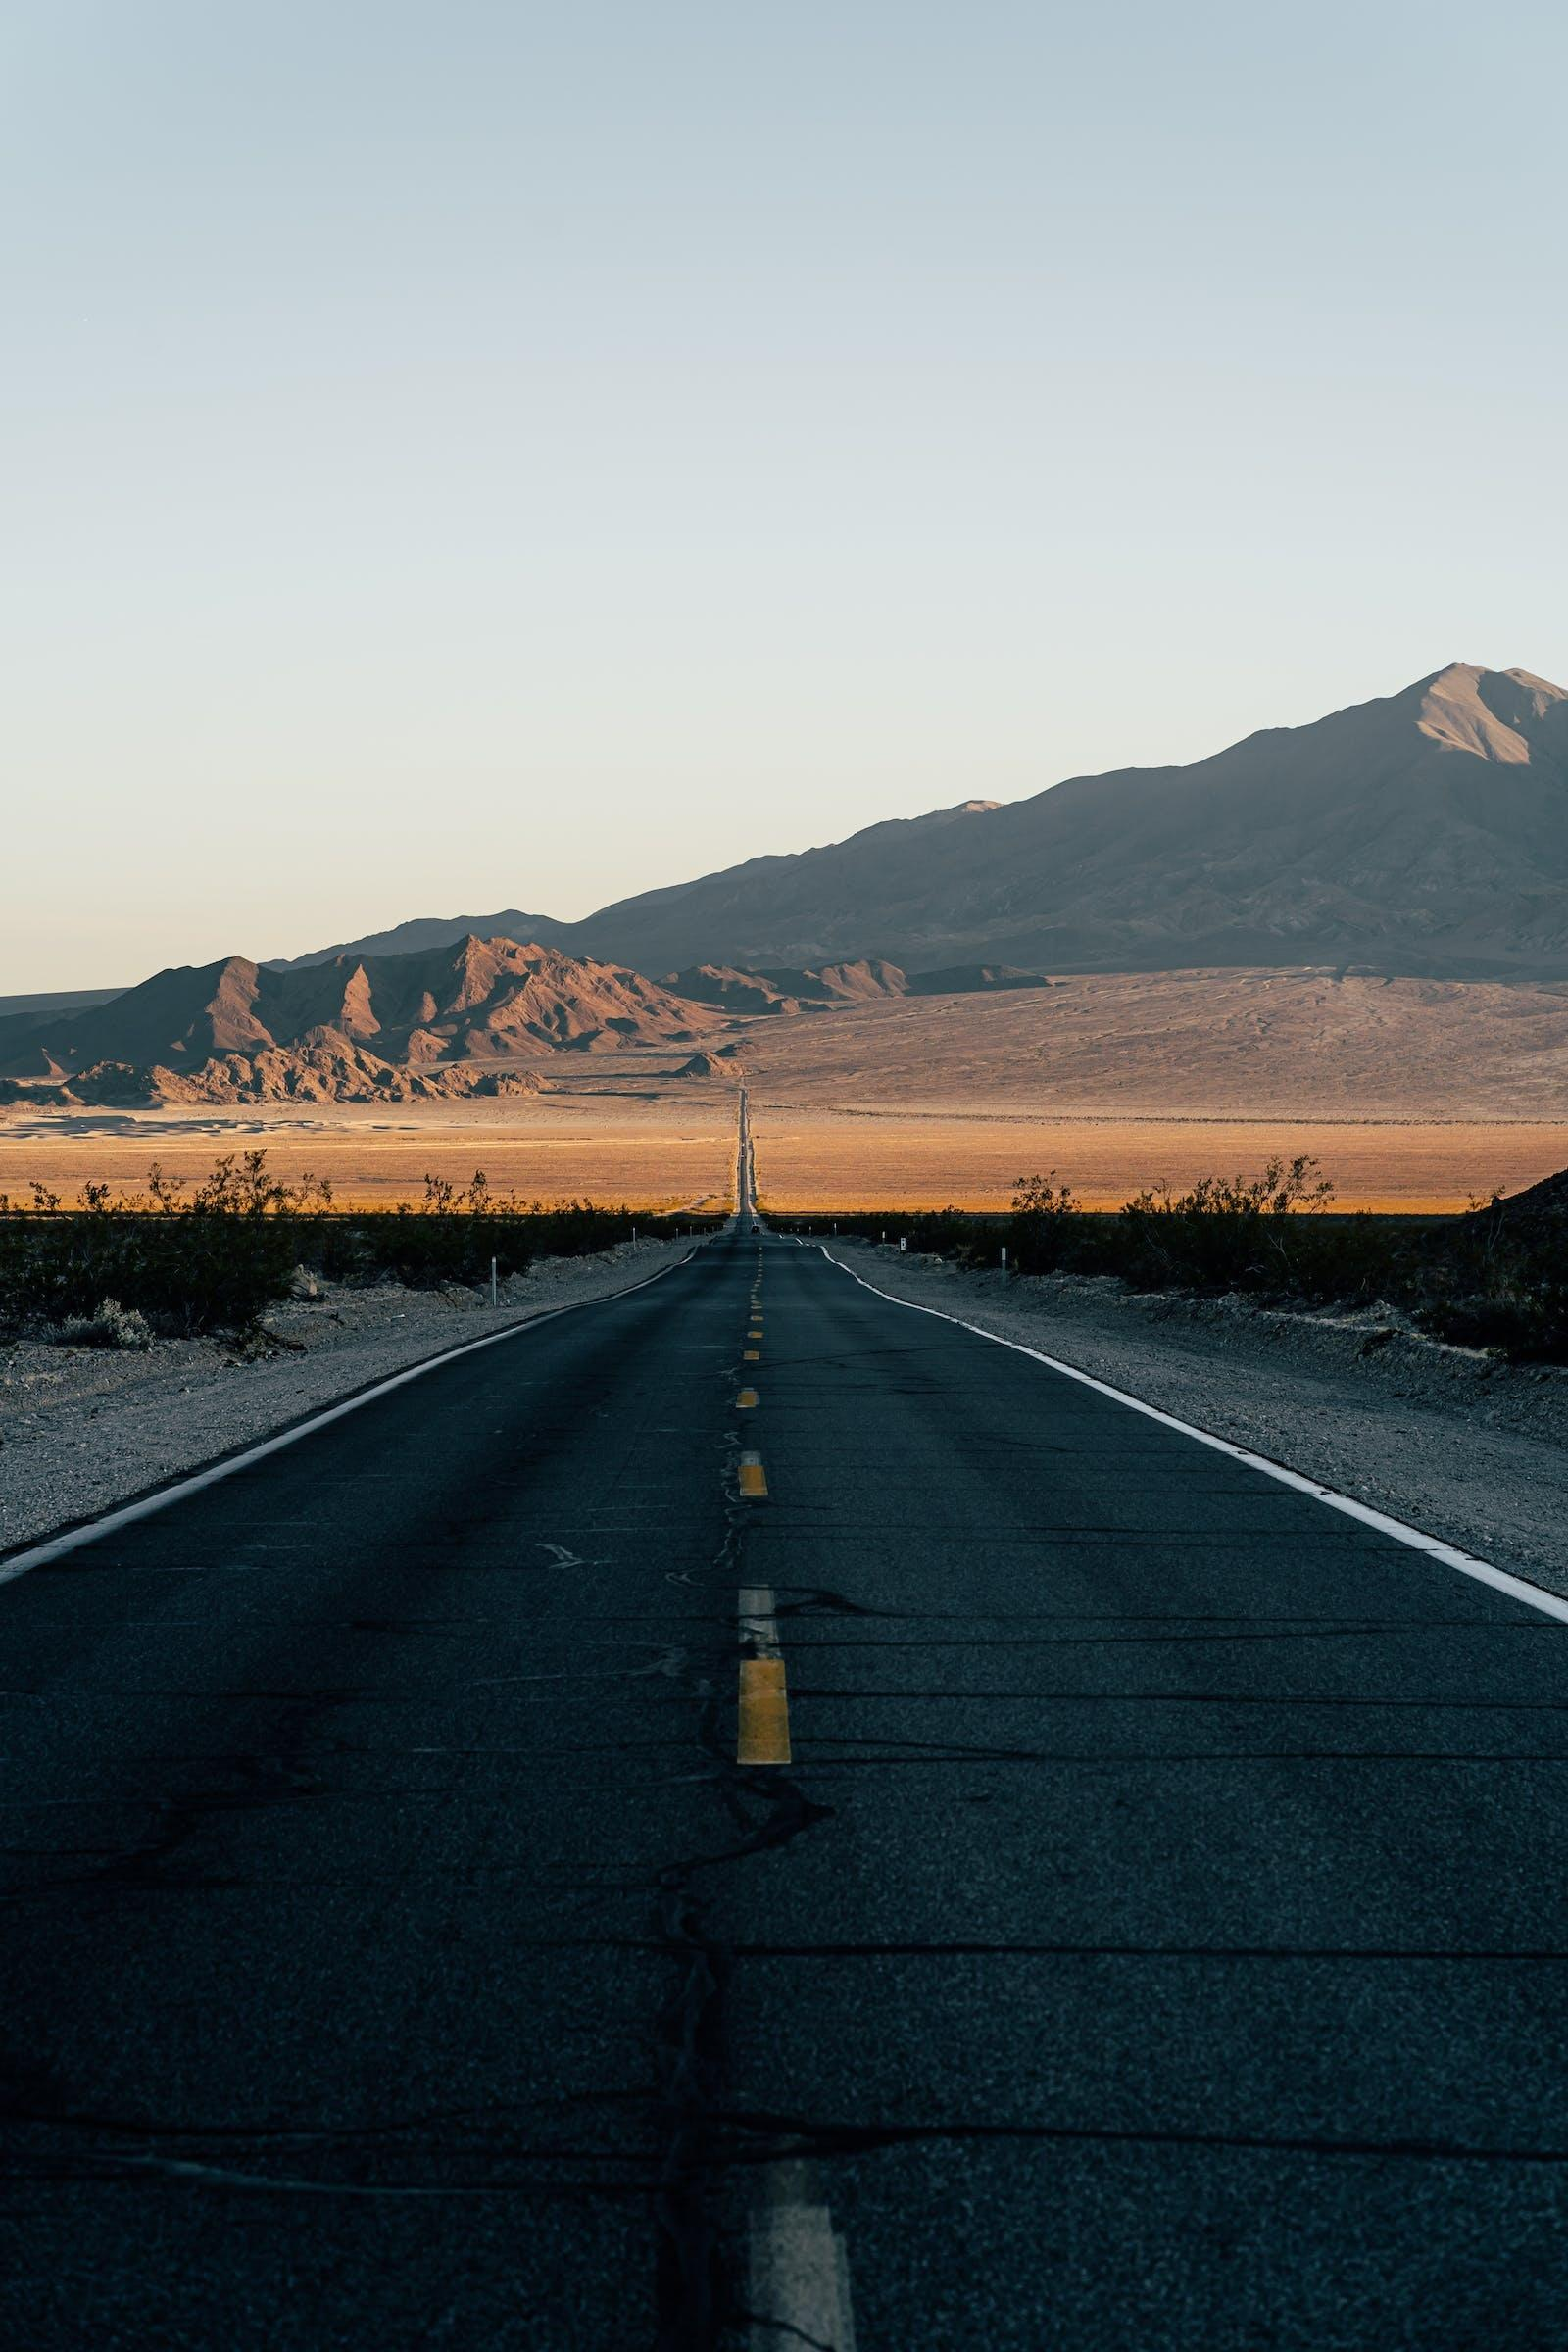field: (754, 1106, 1566, 1211), (0, 1101, 733, 1207)
road: (5, 1237, 1563, 2350)
